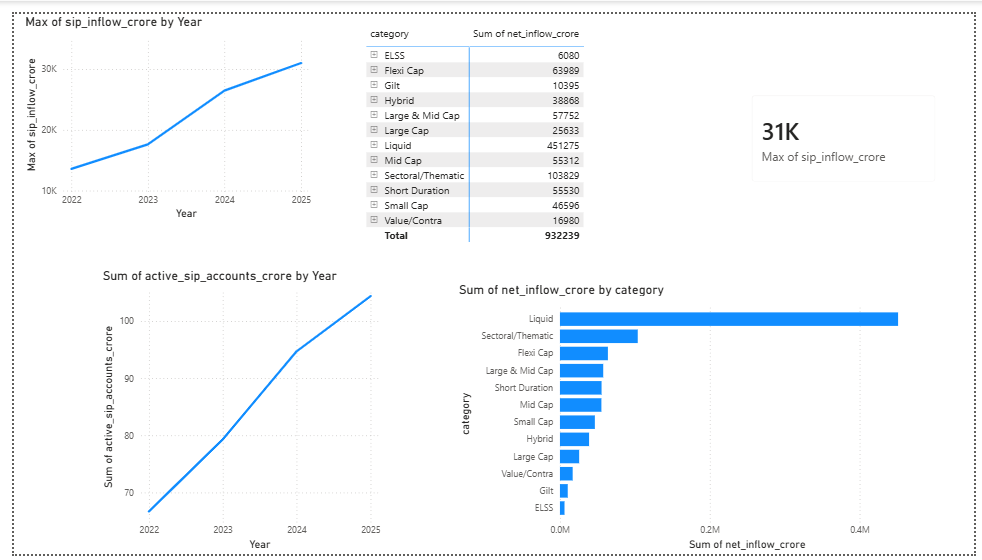

This screenshot's page, from the dashboard's own definition file:
{"tool":"powerbi","page":{"name":"SIP & Market Trends","canvas":[1280,720],"ordinal":3},"visuals":[{"type":"lineChart","fields":{"Category":["clean_monthly_sip_inflows.month.Variation.Date Hierarchy.Year","clean_monthly_sip_inflows.month.Variation.Date Hierarchy.Quarter","clean_monthly_sip_inflows.month.Variation.Date Hierarchy.Month","clean_monthly_sip_inflows.month.Variation.Date Hierarchy.Day"],"Y":["Max(clean_monthly_sip_inflows.sip_inflow_crore)"]},"box":[10.7,0,391,279.5],"z":0},{"type":"lineChart","fields":{"Category":["clean_monthly_sip_inflows.month.Variation.Date Hierarchy.Year","clean_monthly_sip_inflows.month.Variation.Date Hierarchy.Quarter","clean_monthly_sip_inflows.month.Variation.Date Hierarchy.Month","clean_monthly_sip_inflows.month.Variation.Date Hierarchy.Day"],"Y":["Sum(clean_monthly_sip_inflows.active_sip_accounts_crore)"]},"box":[113,337.6,380.3,381.9],"z":1},{"type":"pivotTable","fields":{"Rows":["clean_category_inflows.category","clean_category_inflows.month.Variation.Date Hierarchy.Year","clean_category_inflows.month.Variation.Date Hierarchy.Quarter","clean_category_inflows.month.Variation.Date Hierarchy.Month","clean_category_inflows.month.Variation.Date Hierarchy.Day"],"Values":["Sum(clean_category_inflows.net_inflow_crore)"]},"box":[464.3,10.7,441.4,311.6],"z":2},{"type":"barChart","fields":{"Category":["clean_category_inflows.category"],"Y":["Sum(clean_category_inflows.net_inflow_crore)"]},"box":[588.1,355.9,658.3,363.5],"z":3},{"type":"cardVisual","fields":{"Data":["Max(clean_monthly_sip_inflows.sip_inflow_crore)"]},"box":[966.9,91.6,279.5,149.7],"z":4}]}

Visuals, with their boxes in screenshot pixels (x1, y1, x2, y2), scaled from the page's 1280x720 canvas onto the 982x560 screenshot:
lineChart - clean_monthly_sip_inflows.month.Variation.Date Hierarchy.Year x clean_monthly_sip_inflows.month.Variation.Date Hierarchy.Quarter: region(8, 0, 308, 217)
lineChart - clean_monthly_sip_inflows.month.Variation.Date Hierarchy.Year x clean_monthly_sip_inflows.month.Variation.Date Hierarchy.Quarter: region(87, 263, 378, 559)
pivotTable - clean_category_inflows.category x clean_category_inflows.month.Variation.Date Hierarchy.Year: region(356, 8, 695, 251)
barChart - clean_category_inflows.category x Sum(clean_category_inflows.net_inflow_crore): region(451, 277, 956, 559)
cardVisual - Max(clean_monthly_sip_inflows.sip_inflow_crore): region(742, 71, 956, 188)
